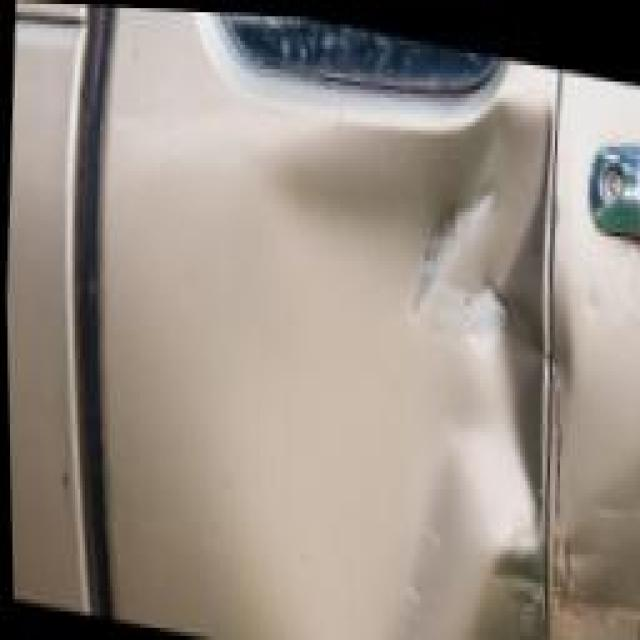Fender: (142, 8, 560, 640)
